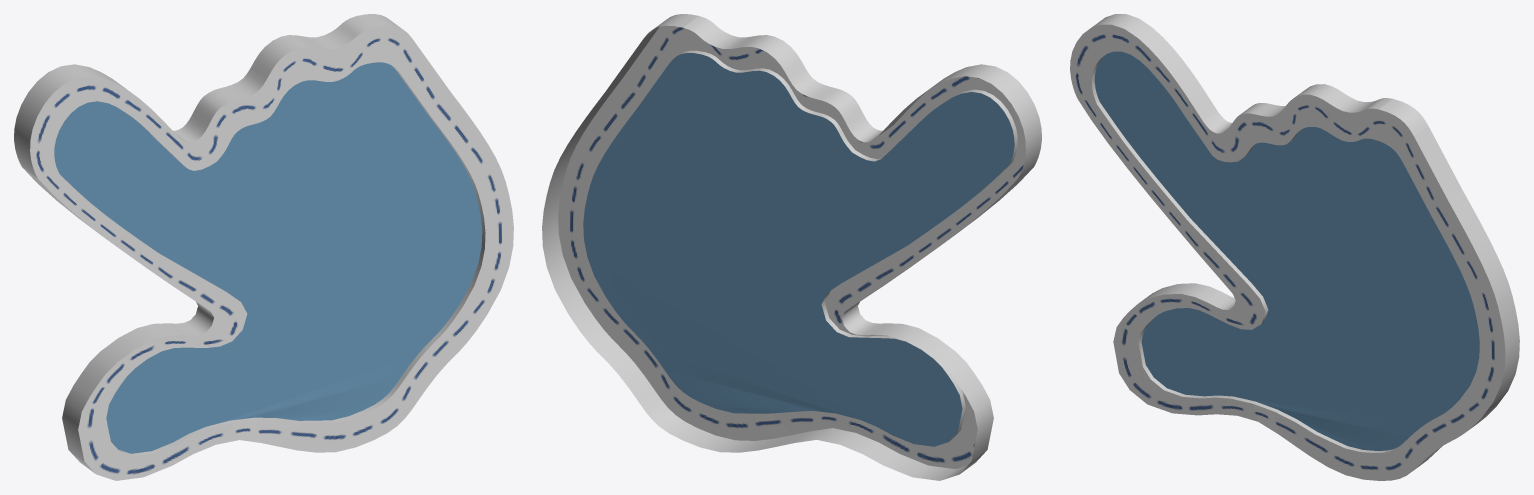
Rendered from HandIcon.FBX.
The picture shows the model from 3 angles, left to right: view 1: azimuth 30°, elevation 25°; view 2: azimuth 150°, elevation 25°; view 3: azimuth 330°, elevation 25°; orthographic projection. The views are drawn at different scales.
Visible parts, largest first — view 1: Hand; view 2: Hand; view 3: Hand.
Boxes of the visible parts, x1=… form: Hand: x1=14, y1=14, x2=513, y2=480; Hand: x1=542, y1=14, x2=1041, y2=480; Hand: x1=1070, y1=14, x2=1519, y2=480.
Bounding box in the file's own units: 0.8212 × 0.7095 × 0.0477.
